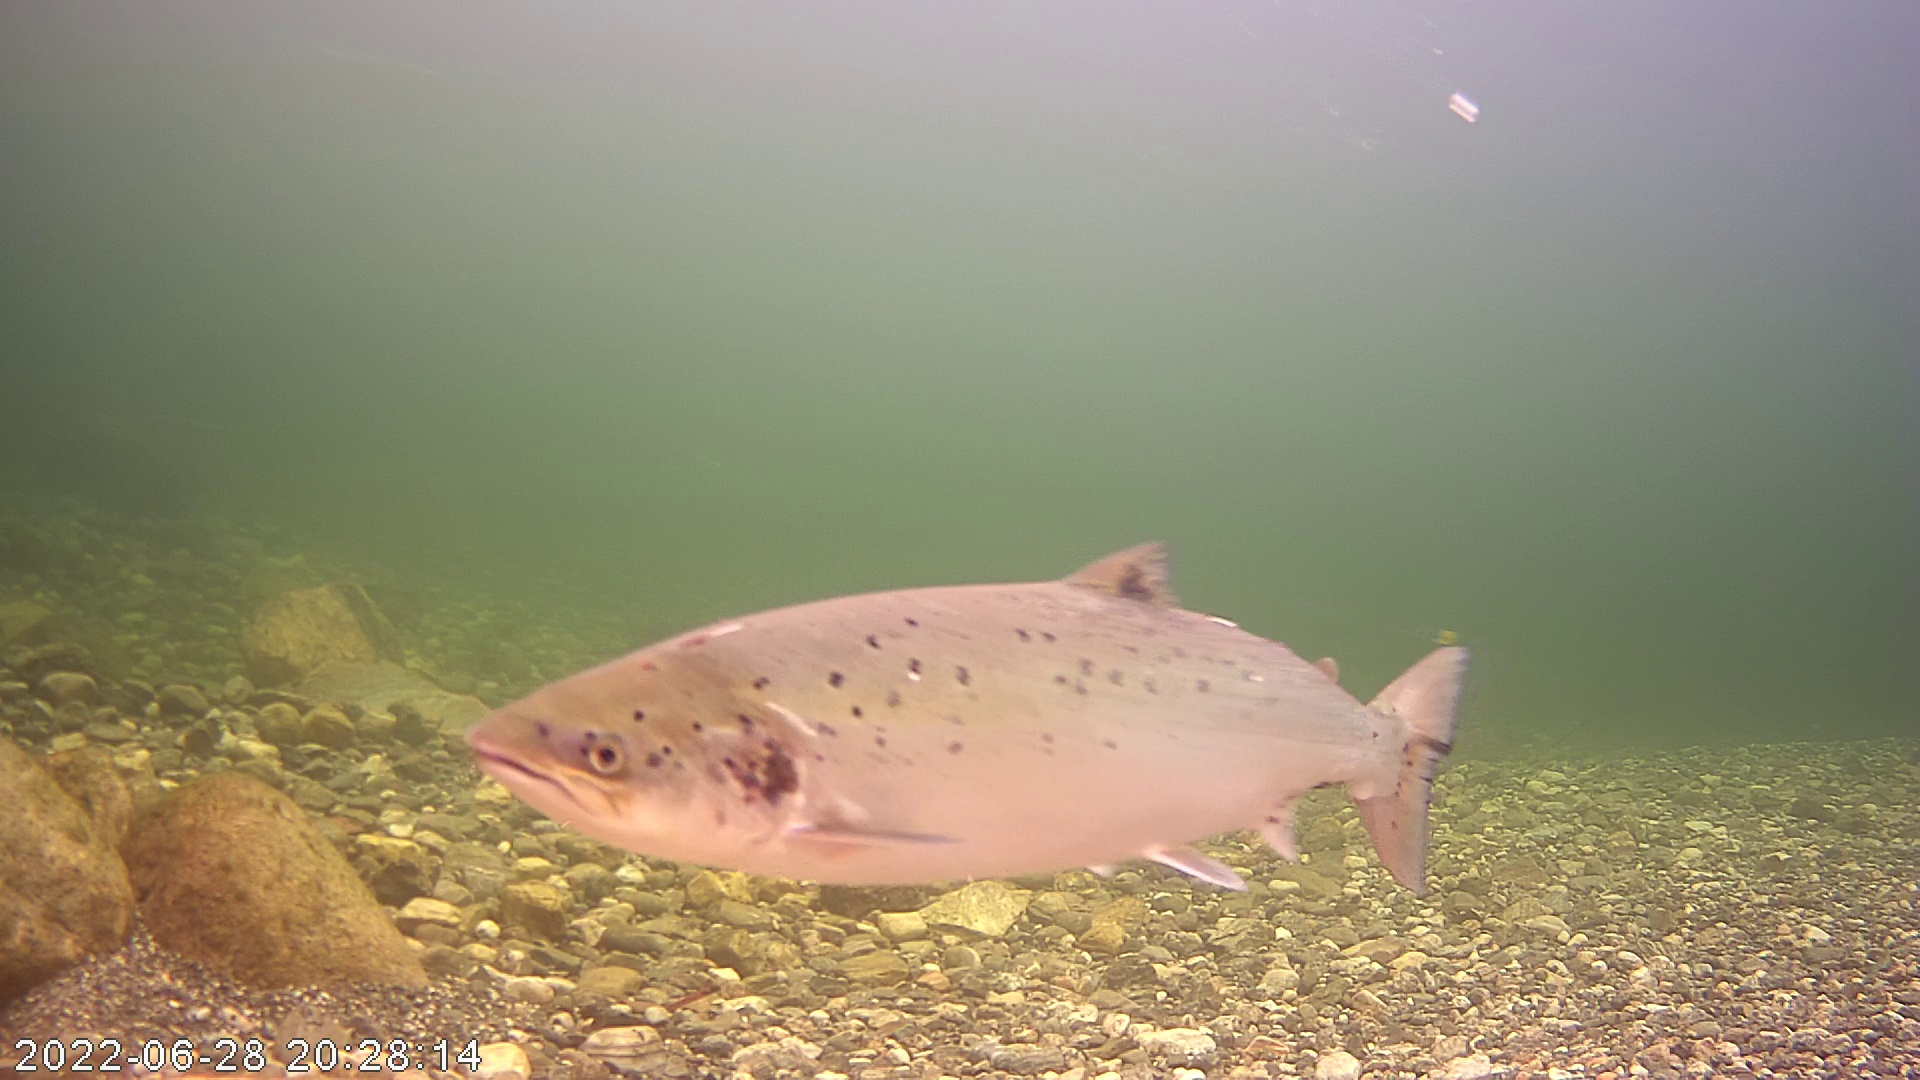salmon: (472, 491, 1485, 907)
